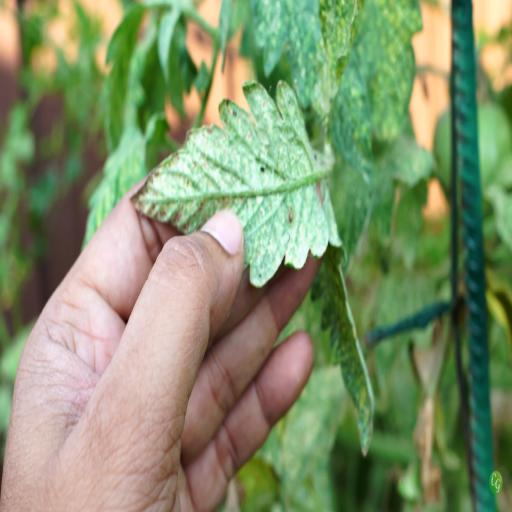disease_tomato: (130, 78, 344, 290), (308, 248, 378, 462)
